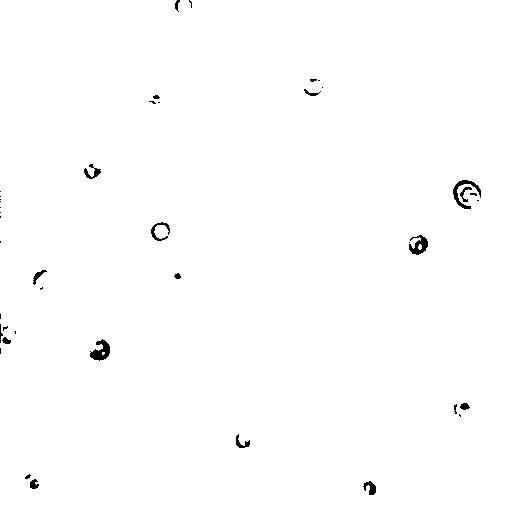micro-algae: (356, 43, 413, 102), (161, 257, 196, 293), (22, 266, 56, 300), (14, 465, 49, 498), (0, 312, 26, 353), (451, 178, 482, 211), (87, 337, 111, 363), (405, 234, 429, 255), (83, 157, 104, 181), (456, 395, 481, 415), (151, 221, 171, 243), (301, 77, 324, 95), (174, 0, 195, 16), (234, 430, 251, 449), (363, 479, 378, 495)
